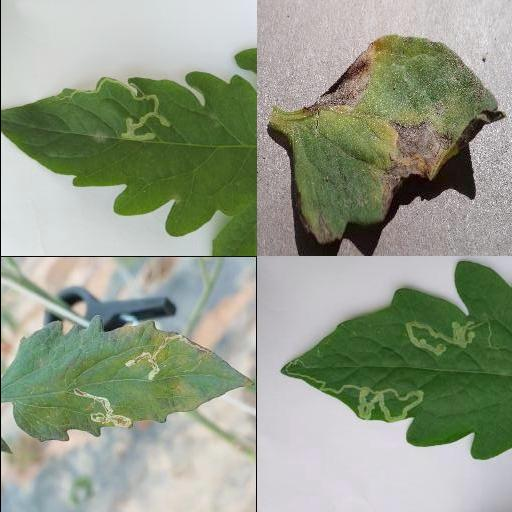Early Blight: (291, 34, 505, 244)
Leaf Miner: (276, 260, 512, 460), (0, 70, 256, 236), (0, 312, 255, 441)
